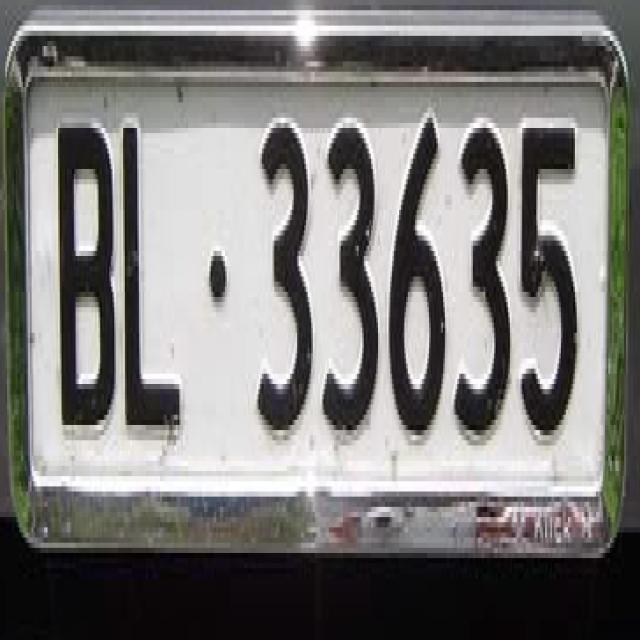Autre: (21, 59, 604, 512)
